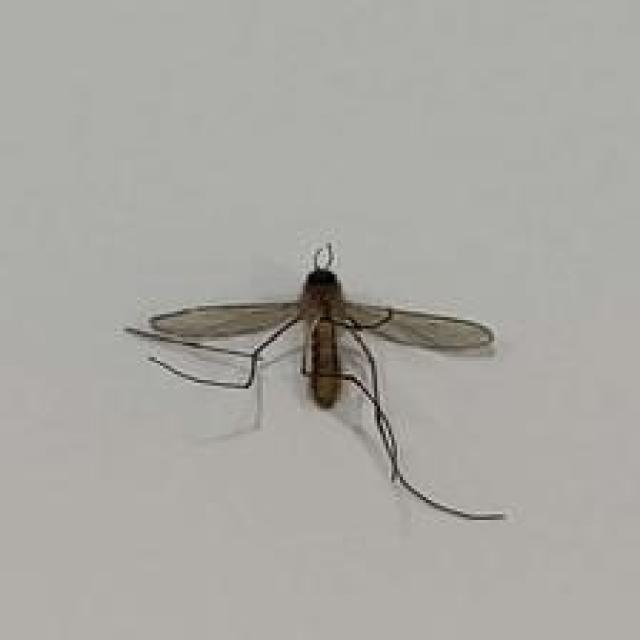Culex: (123, 240, 508, 523)
